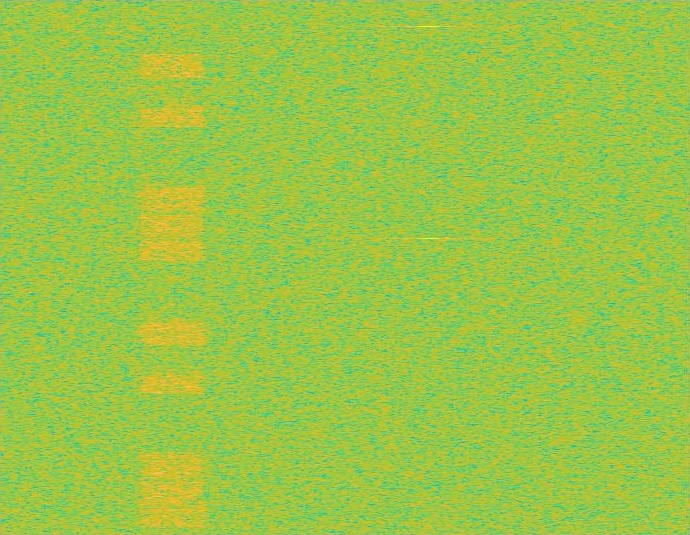LTE: (138, 0, 207, 534)
Radar: (422, 0, 436, 534)
